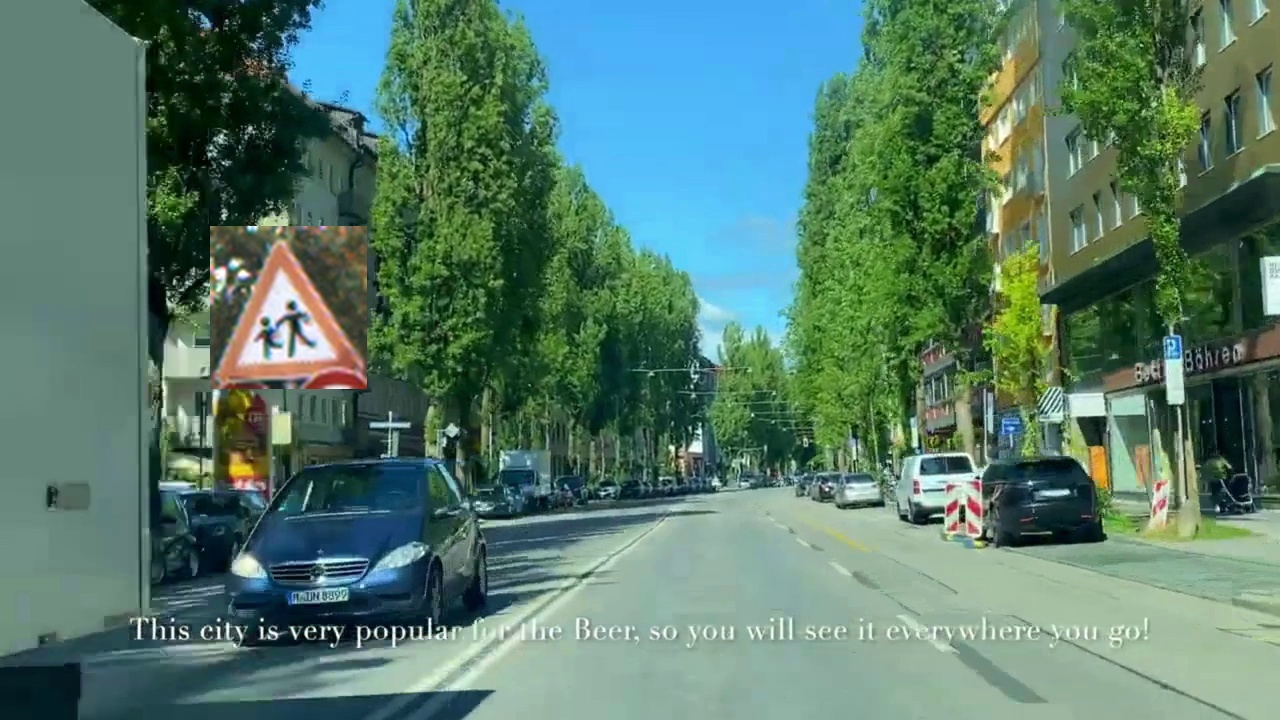Children: (210, 226, 367, 389)
